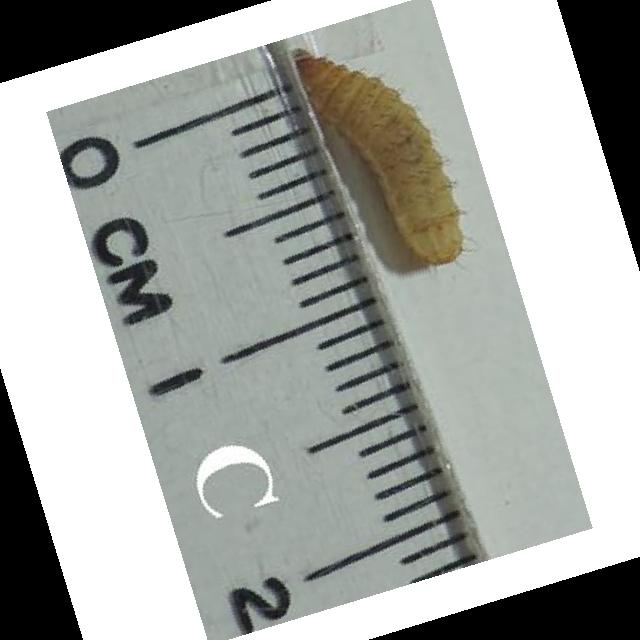Maggot: (285, 45, 476, 267)
